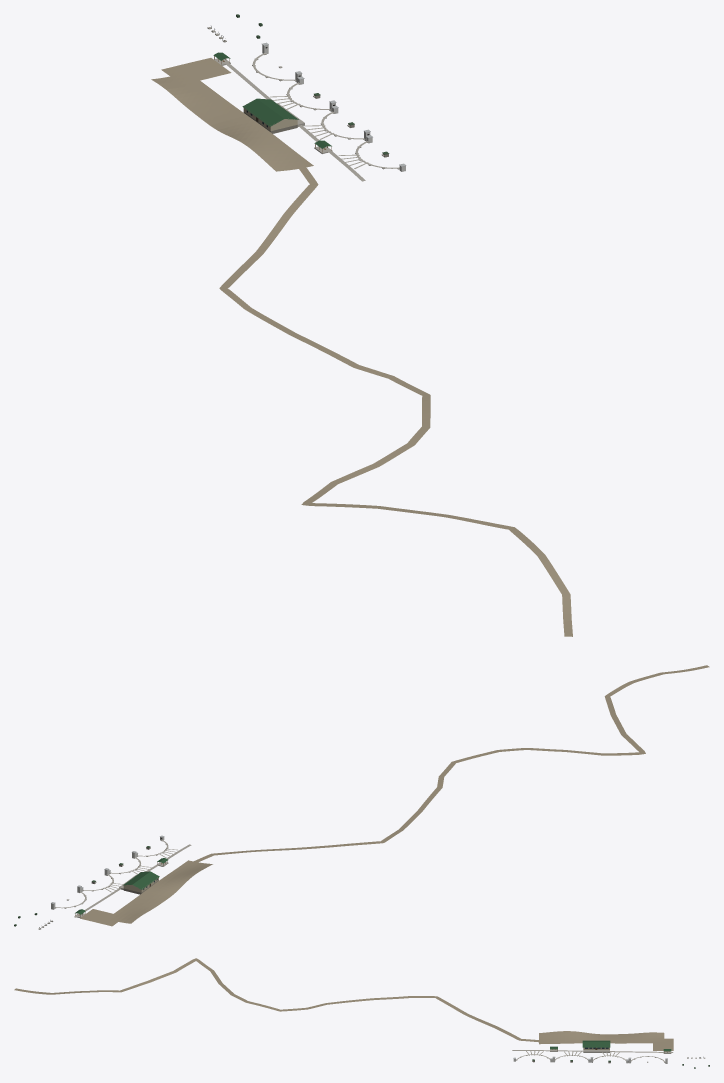
File: bistate.glb
3 renders of one model, top to bottom at view 1: azimuth 30°, elevation 25°; view 2: azimuth 150°, elevation 25°; view 3: azimuth 270°, elevation 25°, orthographic. The views are drawn at different scales.
Visible parts, largest first — view 1: bistate_lod0; view 2: bistate_lod0; view 3: bistate_lod0.
Boxes of the visible parts, bbox=[...] form: bistate_lod0: bbox=[151, 14, 572, 636]; bistate_lod0: bbox=[14, 665, 709, 929]; bistate_lod0: bbox=[14, 958, 709, 1068].
Size of what is drawn, in the model's own units: 284 by 19.64 by 745.
